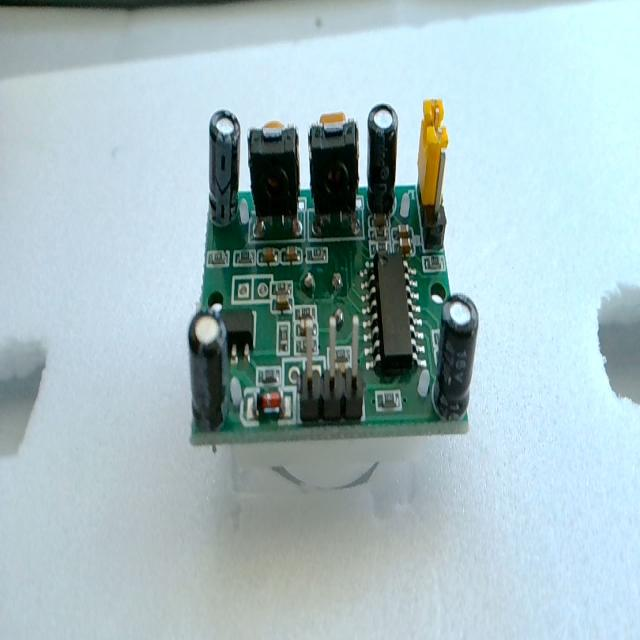Electrolytic capacitor: (434, 295, 480, 423), (188, 307, 229, 432), (208, 109, 242, 228), (366, 103, 399, 219)
IC: (362, 250, 424, 376)
pinheader: (298, 314, 364, 420)
